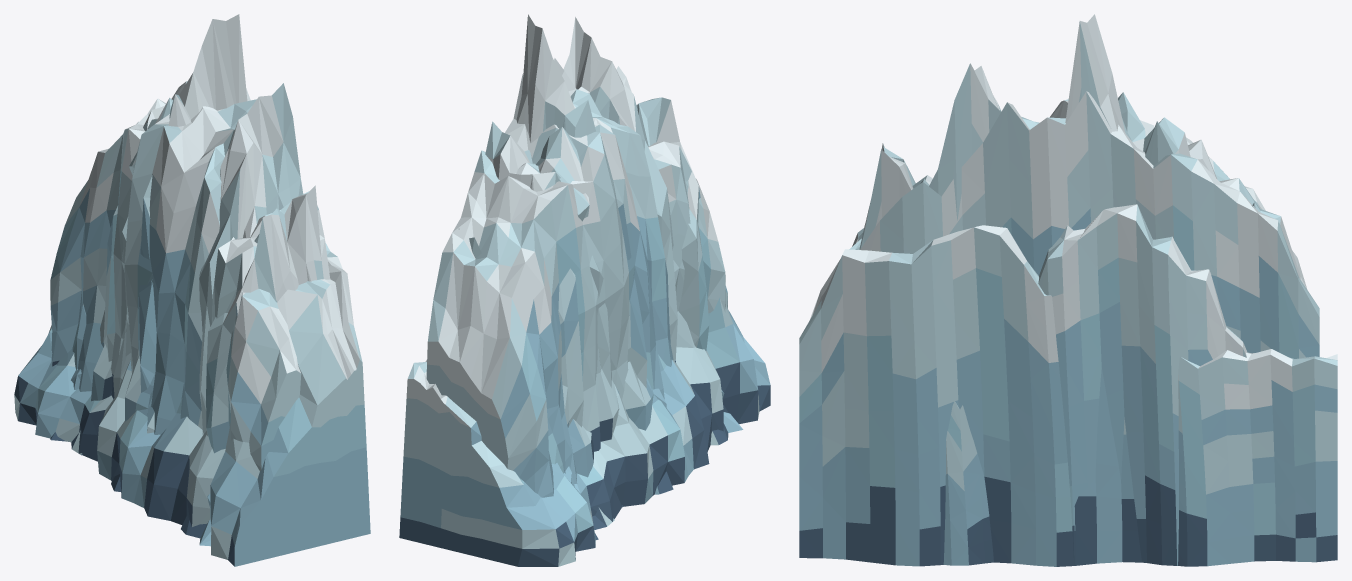
The model's file is glacier-kit.glb.
The picture shows the model from 3 angles, left to right: view 1: azimuth 30°, elevation 25°; view 2: azimuth 150°, elevation 25°; view 3: azimuth 270°, elevation 25°; orthographic projection. The views are drawn at different scales.
Parts seen in each view (by area): view 1: escarpment, terrace, seracs, buttress; view 2: escarpment, terrace, seracs, buttress; view 3: terrace, escarpment, buttress, seracs.
Part boxes in pixels (box(x1,y1,x2,y2)): escarpment: box(50, 89, 330, 470); terrace: box(14, 242, 370, 566); seracs: box(76, 14, 323, 453); buttress: box(50, 98, 211, 546); escarpment: box(426, 58, 727, 497); terrace: box(399, 297, 770, 566); seracs: box(458, 14, 709, 473); buttress: box(533, 127, 743, 539); terrace: box(799, 225, 1337, 566); escarpment: box(852, 91, 1319, 358); buttress: box(943, 92, 1247, 565); seracs: box(859, 14, 1255, 249).
Bounding box in the file's own units: 257 × 650 × 600.
